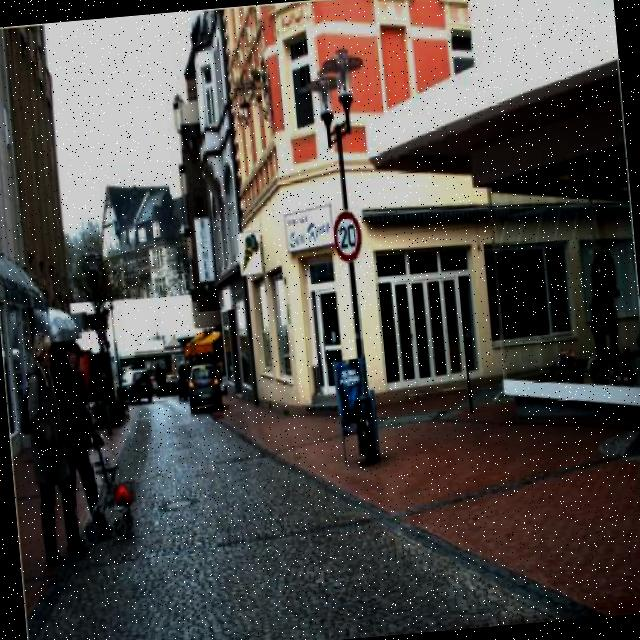Ograniczenie predkosci do 20: (329, 208, 364, 262)
